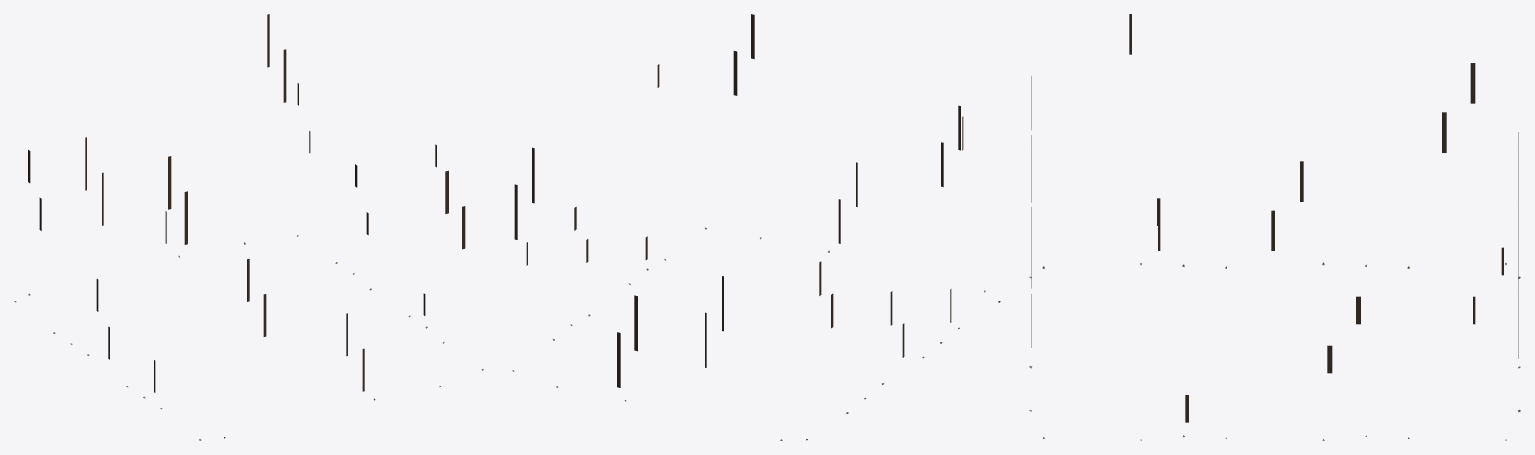
Rendered from crib_pier_24x28x20_detail2.glb.
3 views of the same model, side by side, from view 1: azimuth 30°, elevation 25°; view 2: azimuth 150°, elevation 25°; view 3: azimuth 270°, elevation 25° (orthographic). The views are drawn at different scales.
Parts seen in each view (by area): view 1: crib_pier_24x28x20_detail2_mesh; view 2: crib_pier_24x28x20_detail2_mesh; view 3: crib_pier_24x28x20_detail2_mesh.
Boxes of the visible parts, x1=… form: crib_pier_24x28x20_detail2_mesh: x1=14, y1=14, x2=483, y2=440; crib_pier_24x28x20_detail2_mesh: x1=512, y1=14, x2=1000, y2=440; crib_pier_24x28x20_detail2_mesh: x1=1029, y1=14, x2=1520, y2=440.
Size of the model in its own units: 20.24 by 15.29 by 24.24.
